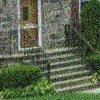stairs: (44, 48, 94, 88)
